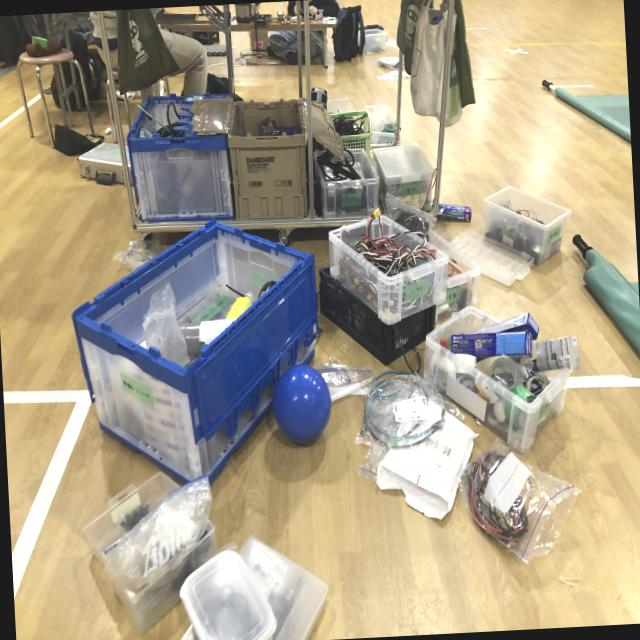blue_ball: (273, 362, 334, 446)
